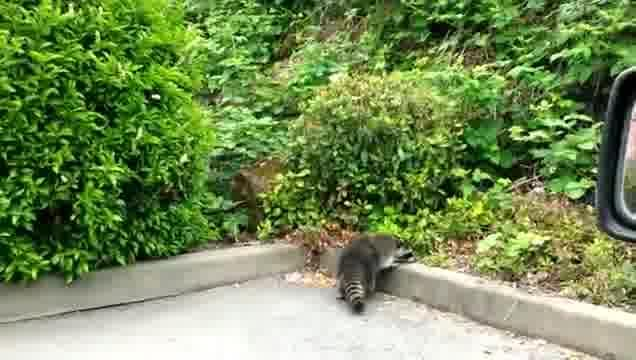raccoon: (330, 227, 431, 312)
